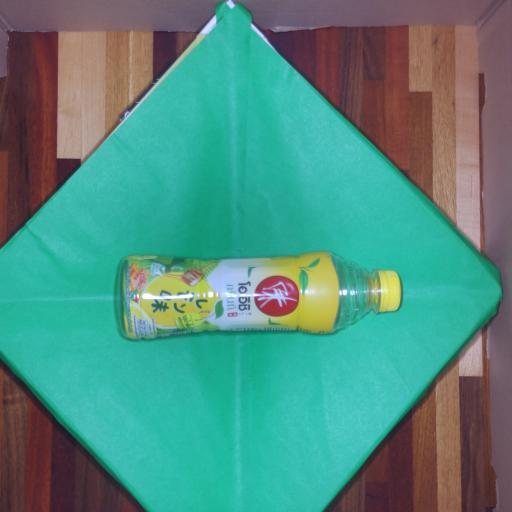bottle: (114, 249, 404, 340)
